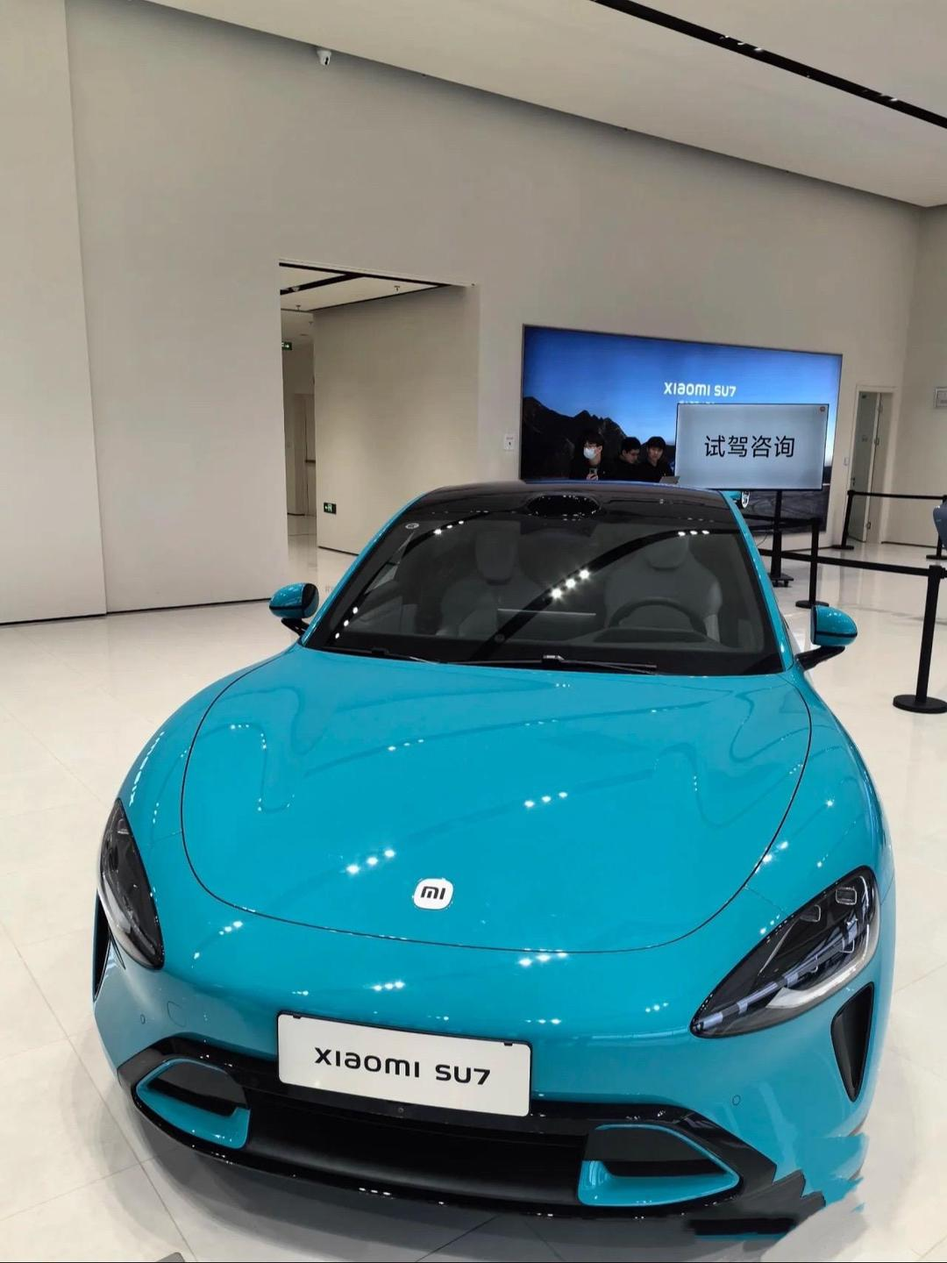su7: (105, 476, 888, 1242)
